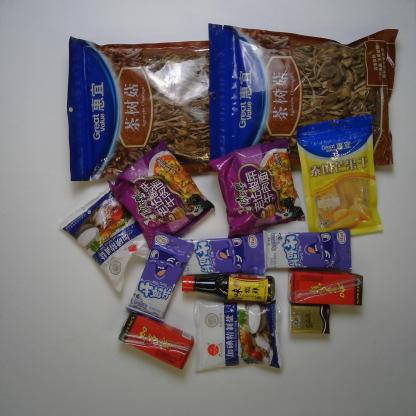Candy: (125, 229, 196, 324), (261, 227, 353, 273), (177, 232, 267, 276)
Dried Food: (206, 21, 400, 169), (66, 33, 209, 183)
Dried Fruit: (294, 113, 384, 237)
Drink: (117, 310, 196, 371), (286, 267, 364, 308)
Instant Noodles: (107, 138, 216, 251), (206, 138, 307, 240)
Seasoner: (58, 183, 150, 294), (191, 297, 285, 377), (180, 272, 277, 303)
Tissue: (286, 302, 332, 336)
